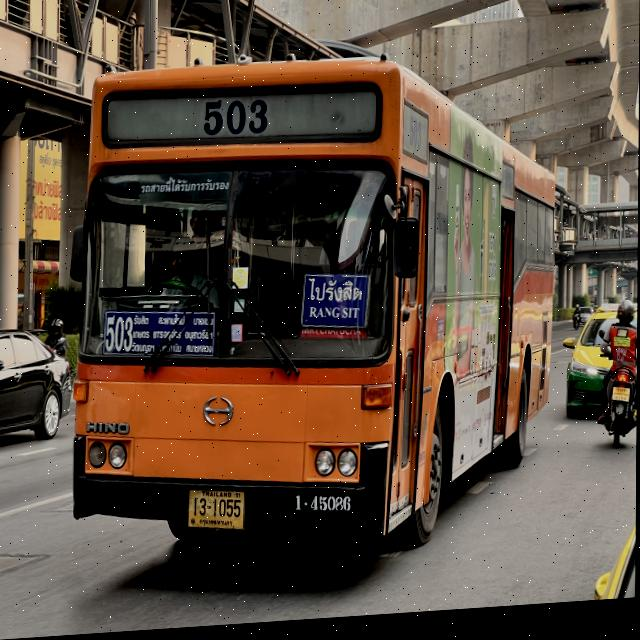BMTA-bus: (59, 20, 565, 589)
Bus-Line-Number: (193, 96, 280, 146)
Destination-Sign-Normal: (302, 272, 370, 334)
